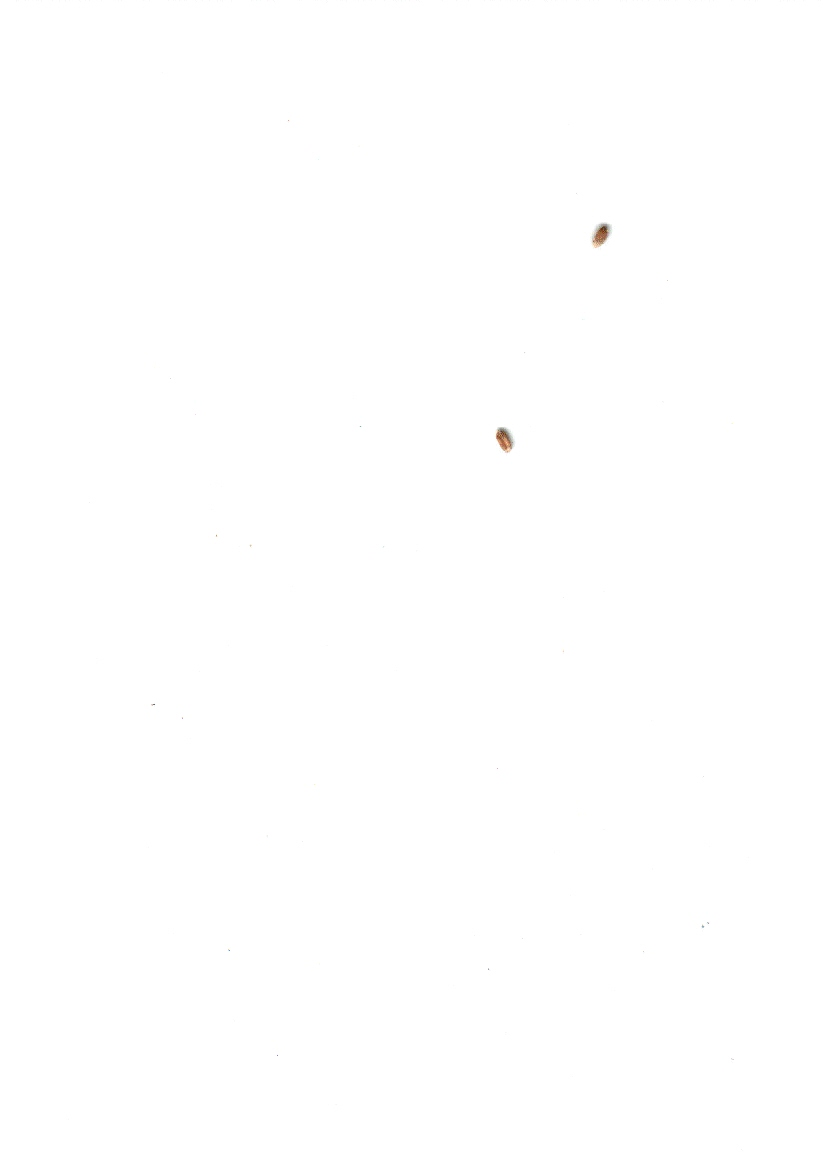grains: (576, 215, 624, 260), (488, 419, 524, 464)
